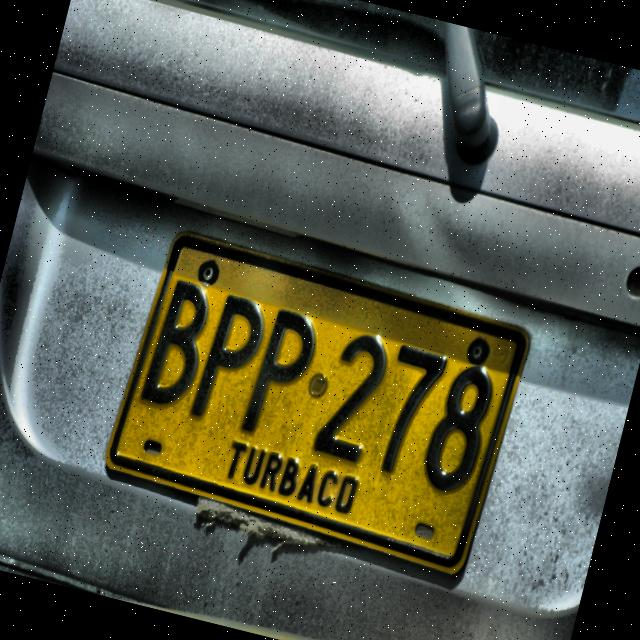plate: (105, 233, 530, 575)
